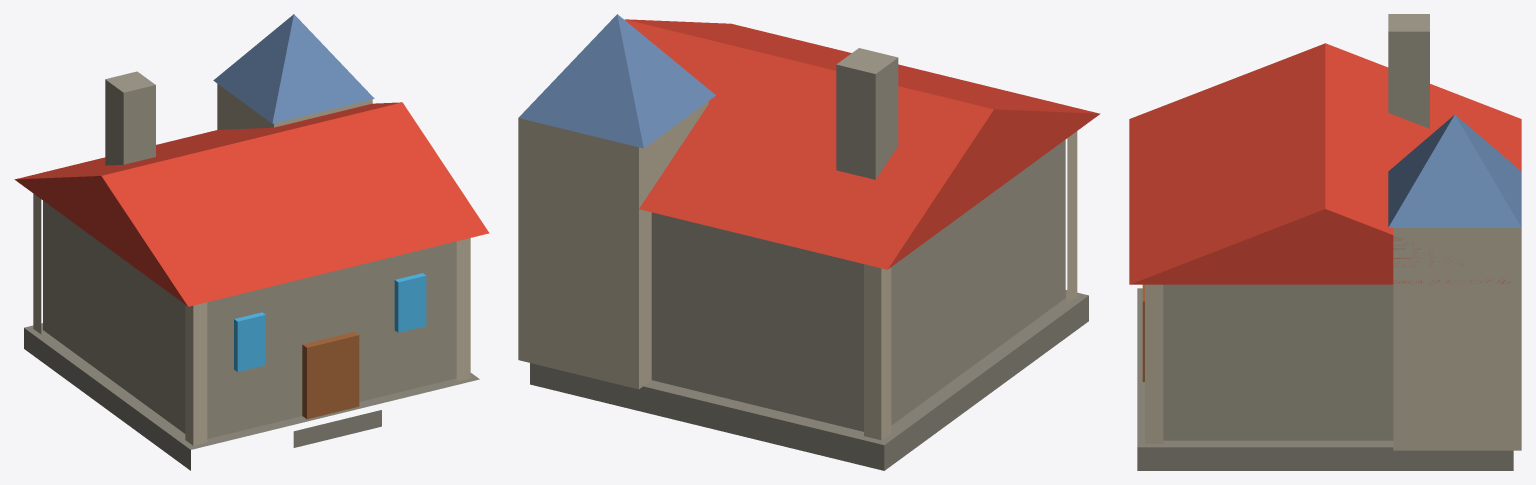
Rendered from house_t3_v1.glb.
The picture shows the model from 3 angles, left to right: view 1: azimuth 30°, elevation 25°; view 2: azimuth 150°, elevation 25°; view 3: azimuth 270°, elevation 25°; orthographic projection. The views are drawn at different scales.
Visible parts, largest first — view 1: house_t3_v1; view 2: house_t3_v1; view 3: house_t3_v1.
Boxes of the visible parts, x1,y1,x2,y2 form: house_t3_v1: (14,14,489,470); house_t3_v1: (518,14,1100,470); house_t3_v1: (1129,14,1521,470).
Bounding box in the file's own units: 0.75 × 0.7 × 0.75.
1 material, 1 textured.
